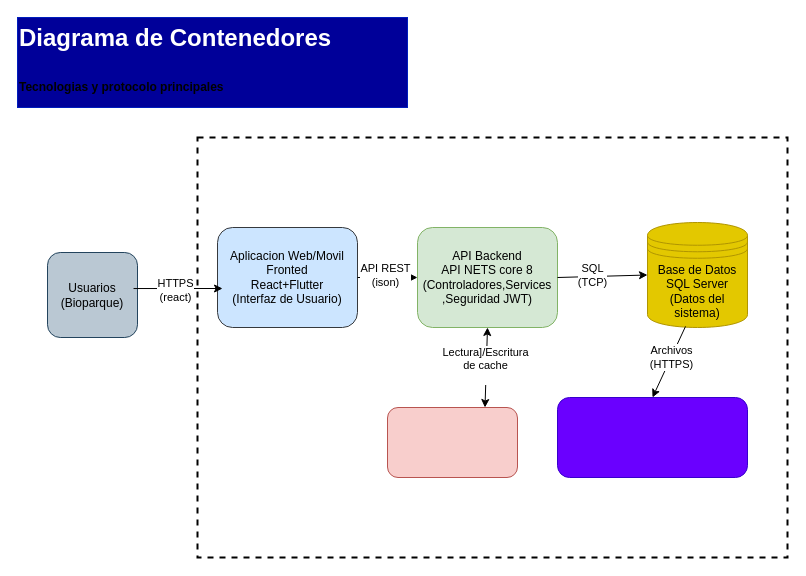
This 806x576 diagram has some shape labels left out. The shapes that lost their labels are listed below. From the top down, each one's centre as x and y in pixels, then its label:
At (452,442): "Cache Redis (Sensiories y datos en cache)".
At (652,437): "Almacenamiento de Archivos (Ssitema de archivos/Blob (Fotos,documentos,repórtes)".
